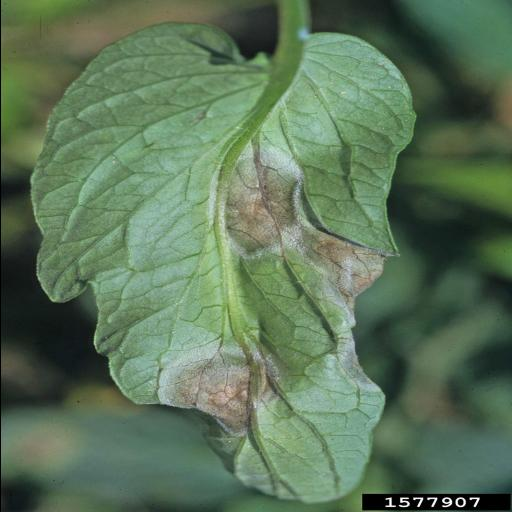Late Blight: (23, 18, 421, 508)
